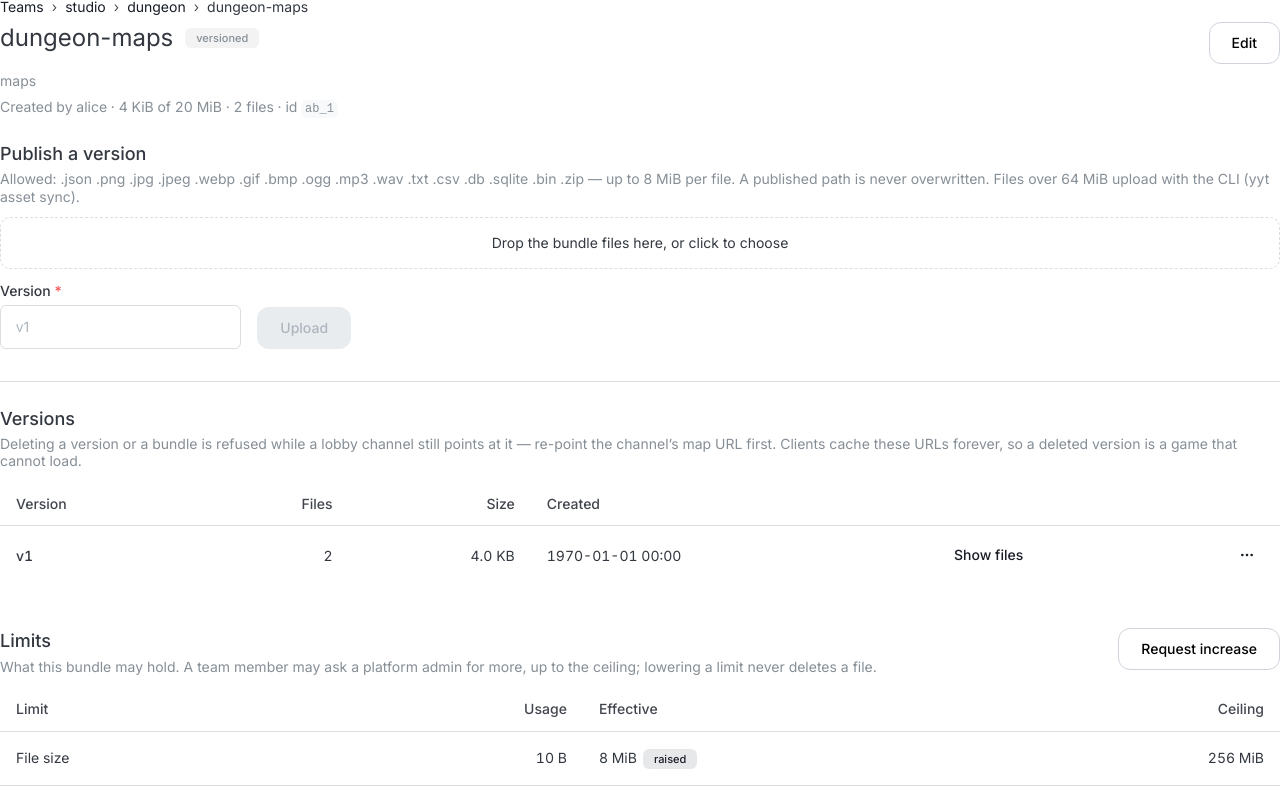
AssetBundlePage › lists versions, opens a version's files and shows the CDN prefix
Expected: the heading "dungeon-maps" is shown, [0,22,173,54]
Expected: the text "v1" is shown, [16,547,33,564]
Click the button with aria-label "Show files of v1" at (989,555), box [945,542,1032,568]
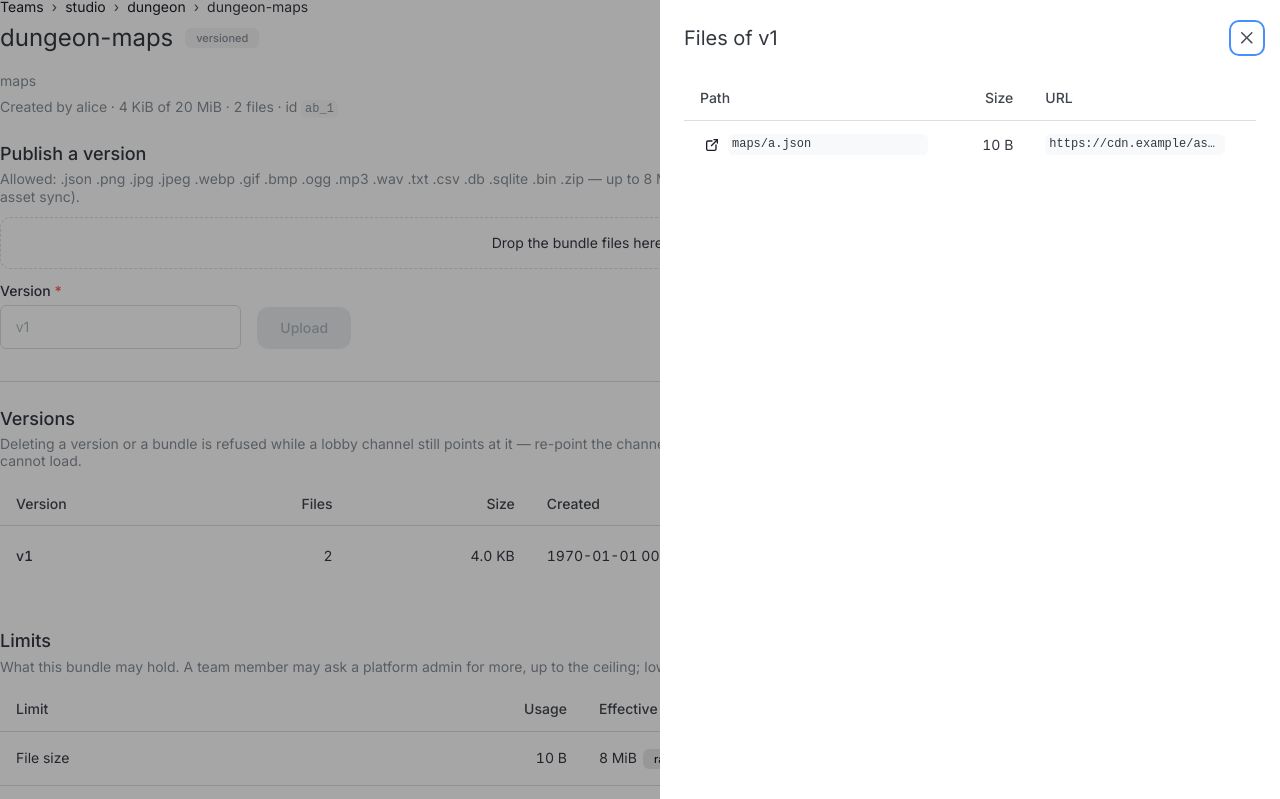
Expected: the heading "Files of v1" is shown, [684,28,778,48]
Expected: the text "maps/a.json" is shown, [728,134,928,155]
Expected: the column heading "Path" is shown, [684,76,962,120]
Click the button "https://cdn.example/assets/ab_1/v1/maps/a.json" at (1135,145), box [1045,134,1225,155]
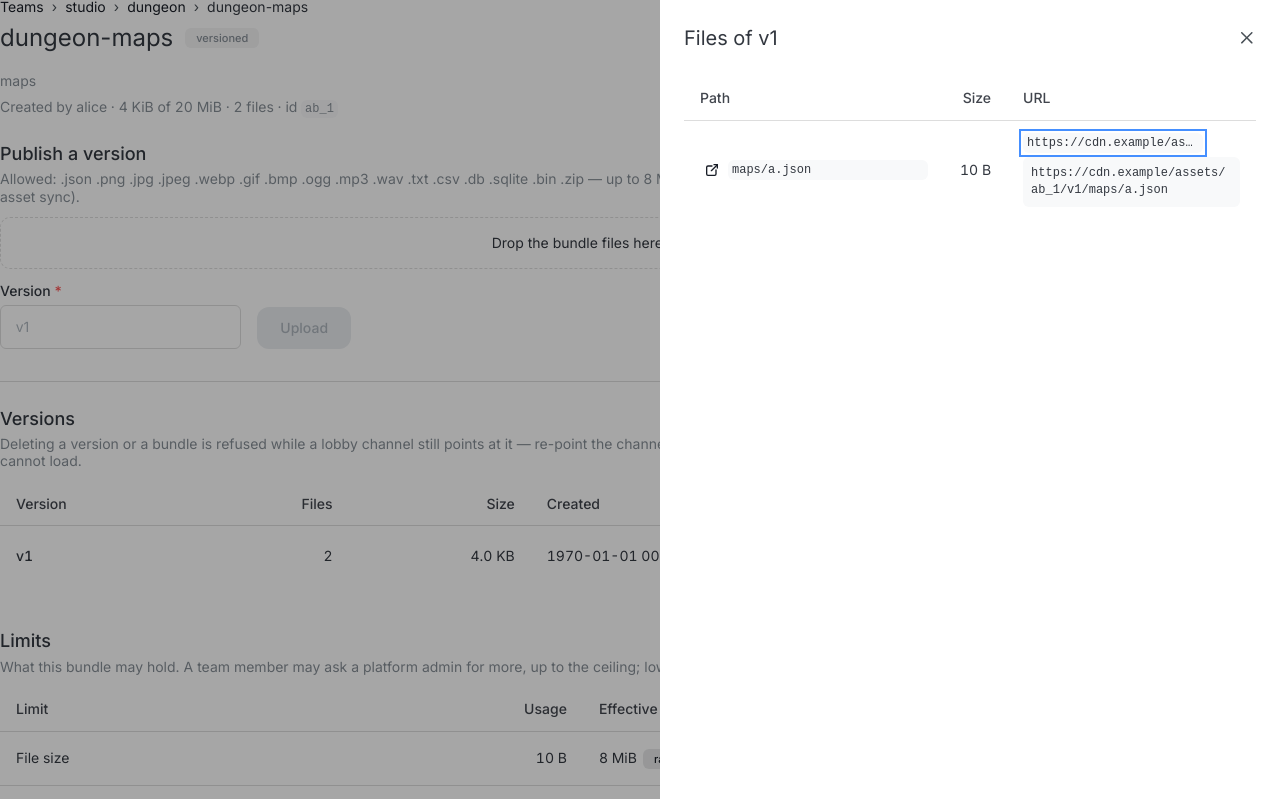
Expected: the button "https://cdn.example/assets/ab_1/v1/maps/a.json" is expanded, [1023,133,1203,153]
Expected: the text named "URL of maps/a.json" reads "https://cdn.example/assets/ab_1/v1/maps/a.json", [1031,166,1226,197]
